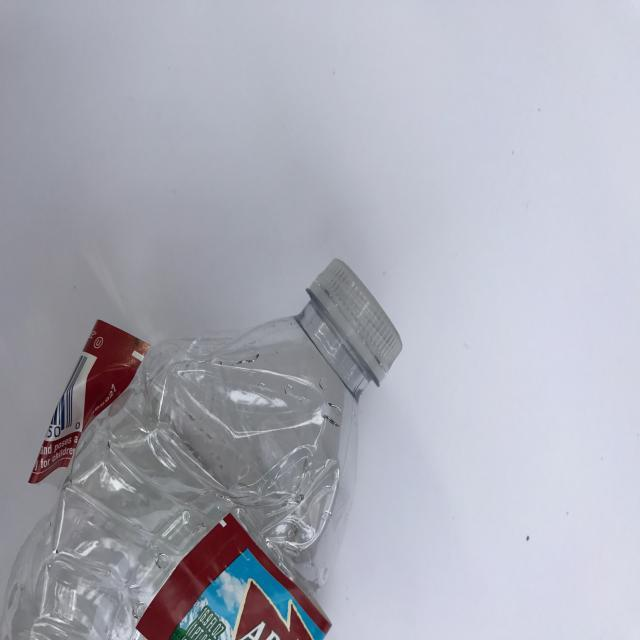plastic: (2, 250, 404, 640)
